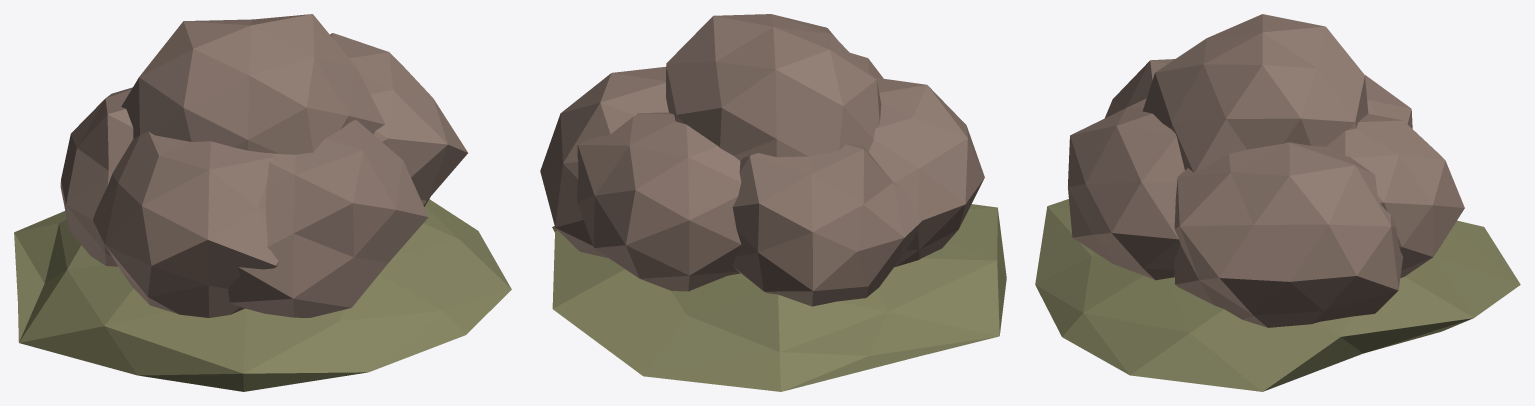
File: vge_egg_sac_c.obj
The picture shows the model from 3 angles, left to right: view 1: azimuth 30°, elevation 25°; view 2: azimuth 150°, elevation 25°; view 3: azimuth 270°, elevation 25°; orthographic projection. The views are drawn at different scales.
Parts seen in each view (by area): view 1: vge_egg_sac_c_0, vge_egg_sac_c_6, vge_egg_sac_c_4, vge_egg_sac_c_5, vge_egg_sac_c_1, vge_egg_sac_c_3; view 2: vge_egg_sac_c_0, vge_egg_sac_c_6, vge_egg_sac_c_3, vge_egg_sac_c_2, vge_egg_sac_c_4, vge_egg_sac_c_1; view 3: vge_egg_sac_c_0, vge_egg_sac_c_1, vge_egg_sac_c_6, vge_egg_sac_c_5, vge_egg_sac_c_2, vge_egg_sac_c_4, vge_egg_sac_c_3.
Boxes of the visible parts, x1,y1,x2,y2 form: vge_egg_sac_c_0: [14, 199, 511, 391]; vge_egg_sac_c_6: [121, 14, 384, 154]; vge_egg_sac_c_4: [93, 132, 278, 317]; vge_egg_sac_c_5: [228, 120, 428, 317]; vge_egg_sac_c_1: [330, 33, 467, 206]; vge_egg_sac_c_3: [60, 87, 133, 266]; vge_egg_sac_c_0: [552, 204, 1006, 391]; vge_egg_sac_c_6: [666, 14, 881, 160]; vge_egg_sac_c_3: [732, 144, 922, 306]; vge_egg_sac_c_2: [577, 112, 741, 291]; vge_egg_sac_c_4: [868, 77, 984, 267]; vge_egg_sac_c_1: [540, 66, 668, 258]; vge_egg_sac_c_0: [1035, 199, 1520, 391]; vge_egg_sac_c_1: [1174, 142, 1402, 327]; vge_egg_sac_c_6: [1142, 14, 1368, 172]; vge_egg_sac_c_5: [1068, 98, 1184, 280]; vge_egg_sac_c_2: [1326, 114, 1464, 277]; vge_egg_sac_c_4: [1105, 59, 1174, 117]; vge_egg_sac_c_3: [1365, 75, 1412, 128].
Size of the model in its own units: 0.9425 by 0.5114 by 0.8919.
